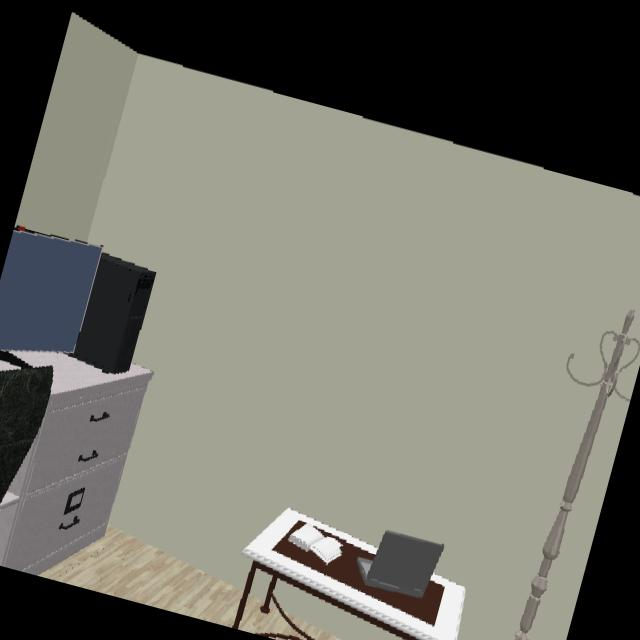book: (286, 522, 342, 565)
chair: (0, 368, 51, 507)
laptop: (360, 531, 445, 603)
monitor: (0, 228, 103, 357)
table: (240, 508, 465, 640)
